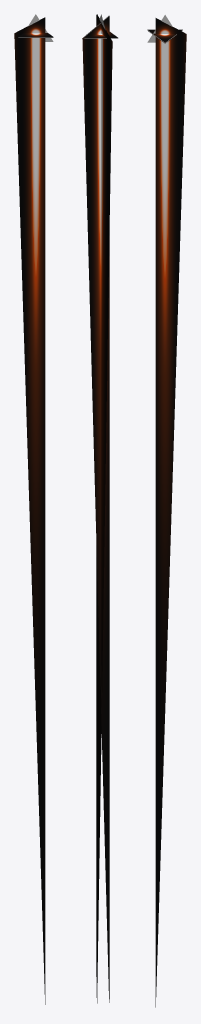
The model's file is Headbullet.fbx.
3 views of the same model, side by side, from view 1: azimuth 90°, elevation 25°; view 2: azimuth 210°, elevation 25°; view 3: azimuth 270°, elevation 25° (orthographic).
Parts seen in each view (by area): view 1: HeadBullet_2; view 2: HeadBullet_2; view 3: HeadBullet_2, HeadBullet_1.
Boxes of the visible parts, x1=… form: HeadBullet_2: x1=14, y1=17, x2=53, y2=1004; HeadBullet_2: x1=82, y1=14, x2=117, y2=1003; HeadBullet_2: x1=147, y1=18, x2=186, y2=1007; HeadBullet_1: x1=147, y1=15, x2=182, y2=42.
Bounding box in the file's own units: 13.07 × 463 × 16.65.
